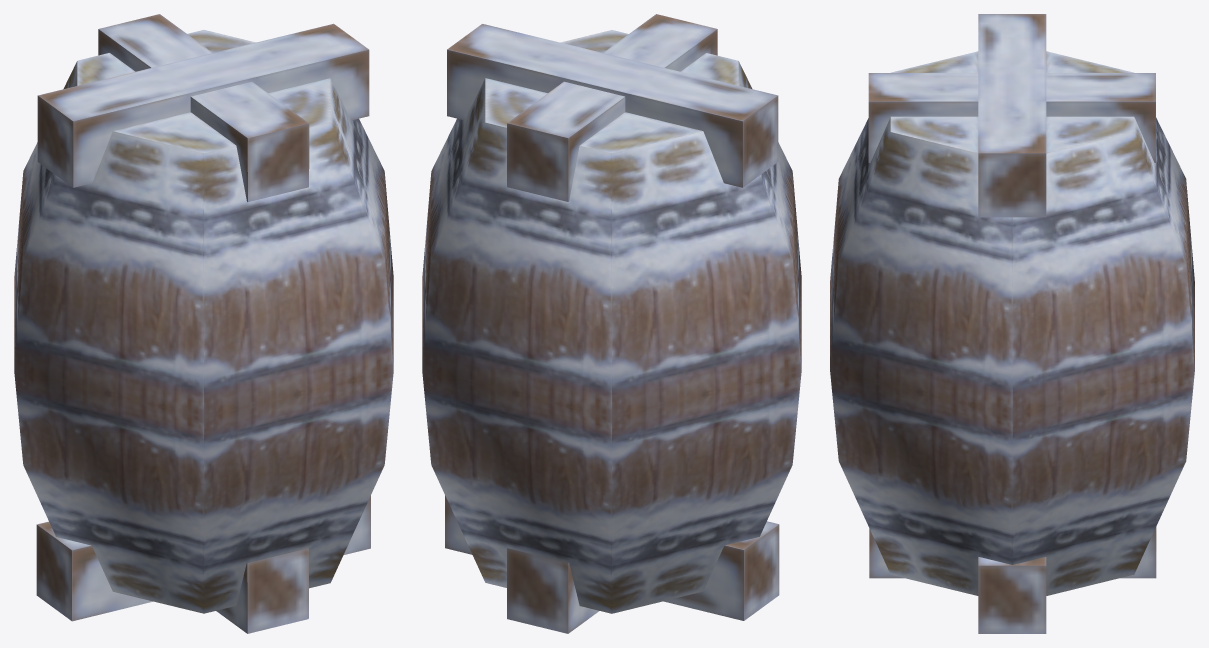
Rendered from rzjd_tong_01.FBX.
3 views of the same model, side by side, from view 1: azimuth 30°, elevation 25°; view 2: azimuth 150°, elevation 25°; view 3: azimuth 270°, elevation 25° (orthographic). The views are drawn at different scales.
Parts seen in each view (by area): view 1: rzjd_tong_01; view 2: rzjd_tong_01; view 3: rzjd_tong_01.
Boxes of the visible parts, x1=… form: rzjd_tong_01: x1=14, y1=14, x2=393, y2=633; rzjd_tong_01: x1=422, y1=14, x2=801, y2=633; rzjd_tong_01: x1=830, y1=14, x2=1194, y2=633.
Bounding box in the file's own units: 81.24 × 102 × 70.37.
